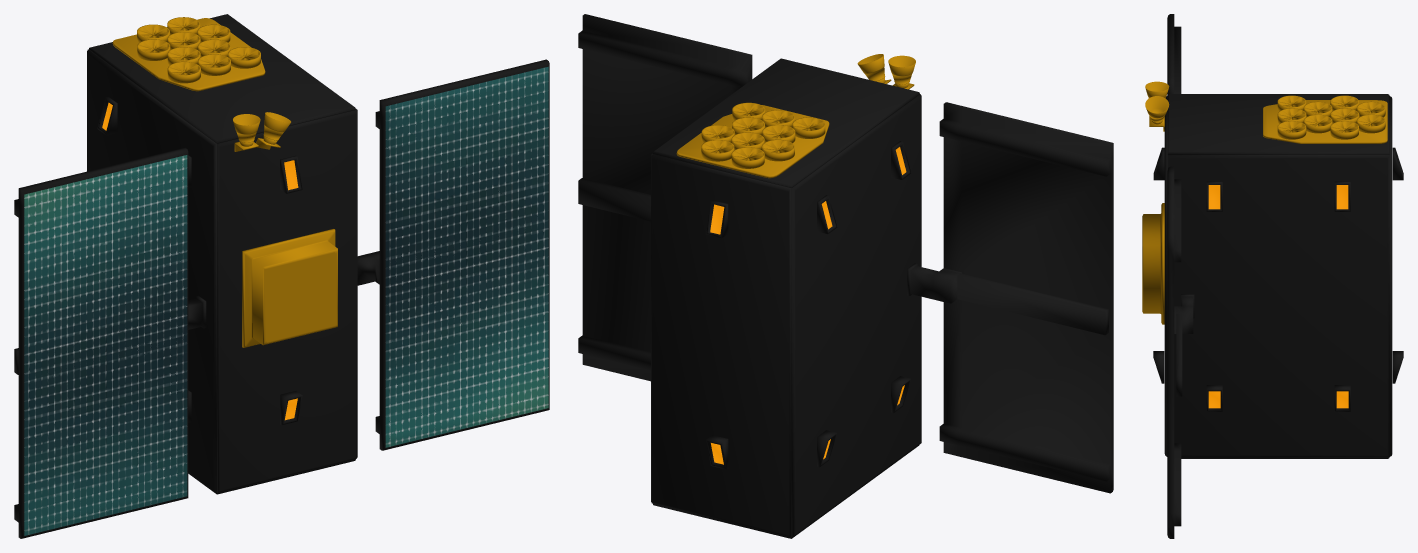
The model's file is Satteliet_v8.glb.
3 views of the same model, side by side, from view 1: azimuth 30°, elevation 25°; view 2: azimuth 150°, elevation 25°; view 3: azimuth 270°, elevation 25° (orthographic). The views are drawn at different scales.
Visible parts, largest first — view 1: Plane.007; view 2: Plane.007; view 3: Plane.007.
Boxes of the visible parts, left/top/right/bottom form: Plane.007: left=14, top=14, right=549, bottom=538; Plane.007: left=578, top=14, right=1113, bottom=538; Plane.007: left=1142, top=14, right=1403, bottom=538.
Bounding box in the file's own units: 3.8 × 2.65 × 1.88.
Materials: 4 (1 with a texture image).
